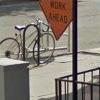Bicycle: (5, 14, 57, 63)
